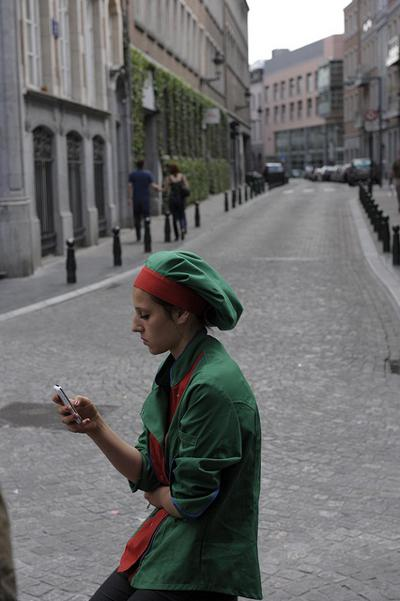person: (53, 251, 263, 601)
